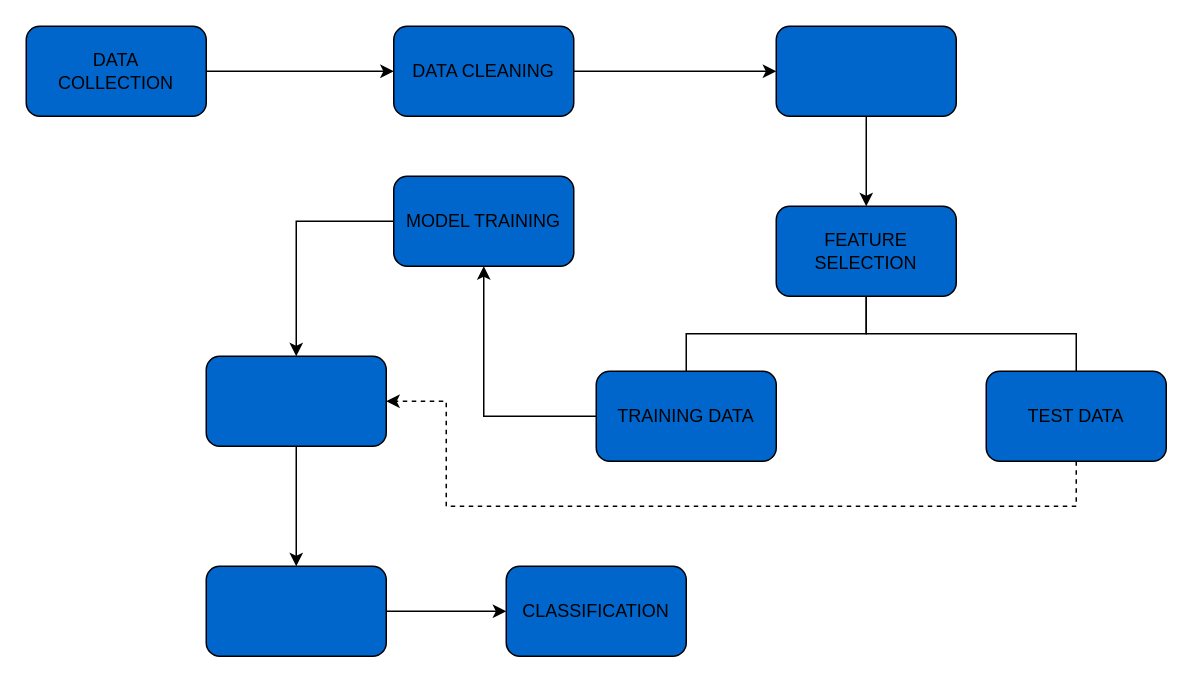
This 1193x683 diagram has some shape labels left out. Each missing label, with the box of its shape:
EXTRACT LINGUISTIC FEATURES: (775, 25, 956, 116)
MODEL EVALUATION: (205, 355, 386, 446)
TRAINED MODEL: (205, 565, 386, 656)
